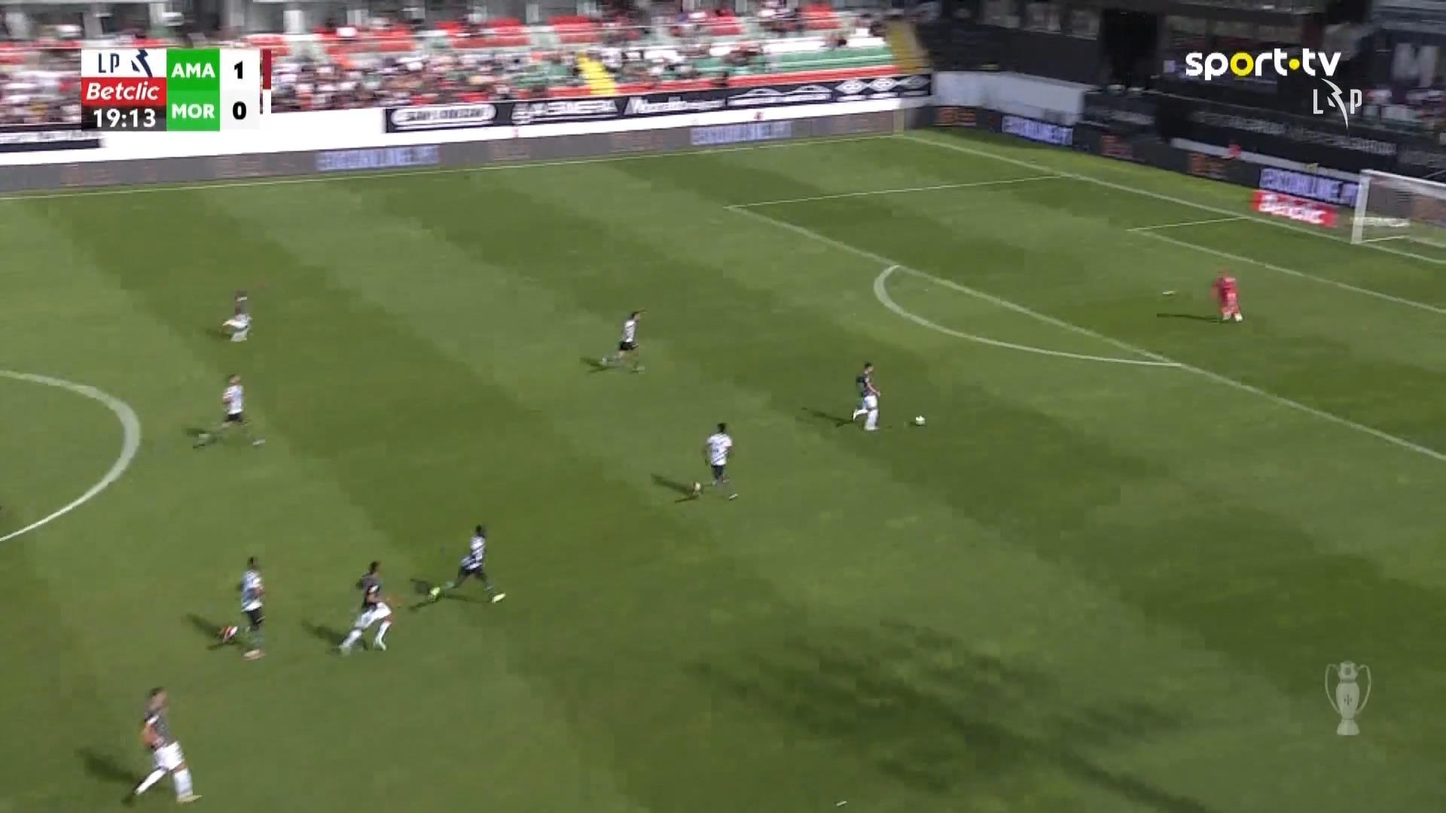ball: (914, 415, 924, 424)
goalkeeper: (1211, 268, 1243, 322)
player: (120, 685, 203, 805), (407, 522, 505, 610), (206, 555, 267, 659), (334, 559, 395, 656), (191, 373, 265, 449), (599, 308, 647, 373), (850, 361, 882, 431), (237, 556, 266, 633), (703, 421, 733, 486), (219, 288, 254, 342)
